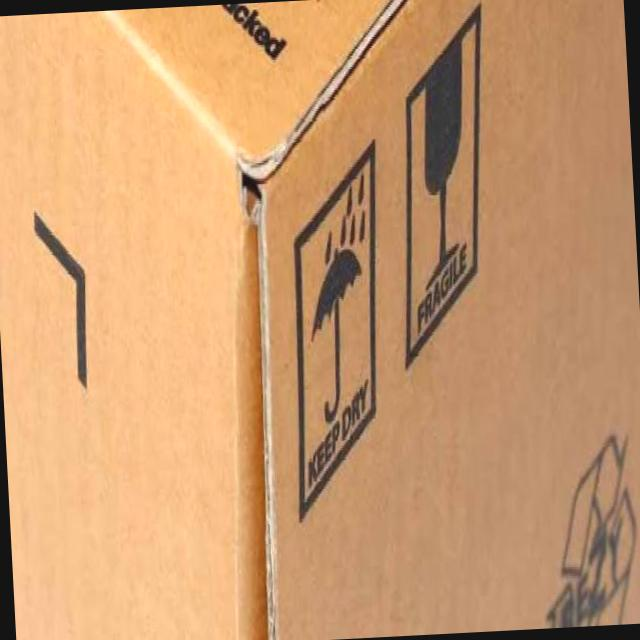fragile_label: (406, 7, 480, 367)
keep_dry_label: (547, 438, 636, 622)
